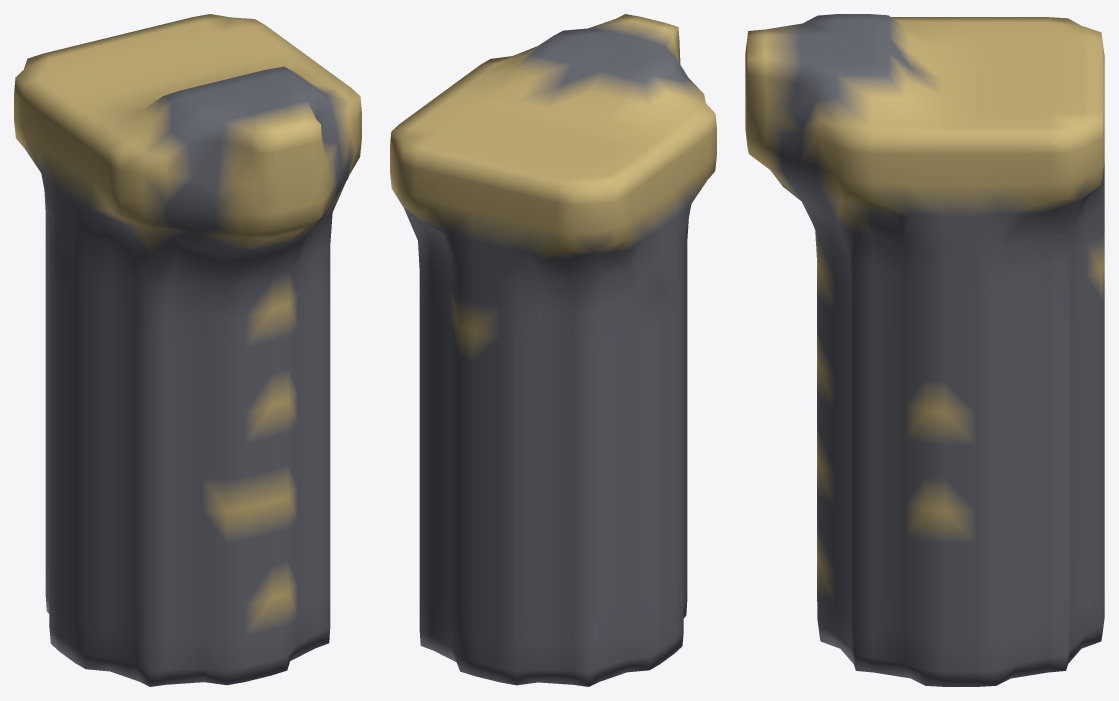
Rendered from plate_legendary_boot_shin_L_lod1.glb.
3 views of the same model, side by side, from view 1: azimuth 30°, elevation 25°; view 2: azimuth 150°, elevation 25°; view 3: azimuth 270°, elevation 25° (orthographic). The views are drawn at different scales.
Visible parts, largest first — view 1: plate_legendary_boot_shin_L_lod1; view 2: plate_legendary_boot_shin_L_lod1; view 3: plate_legendary_boot_shin_L_lod1.
Boxes of the visible parts, x1,y1,x2,y2 form: plate_legendary_boot_shin_L_lod1: (14,14,361,686); plate_legendary_boot_shin_L_lod1: (390,14,716,686); plate_legendary_boot_shin_L_lod1: (745,14,1104,686).
Size of the model in its own units: 0.192 by 0.432 by 0.2399.
